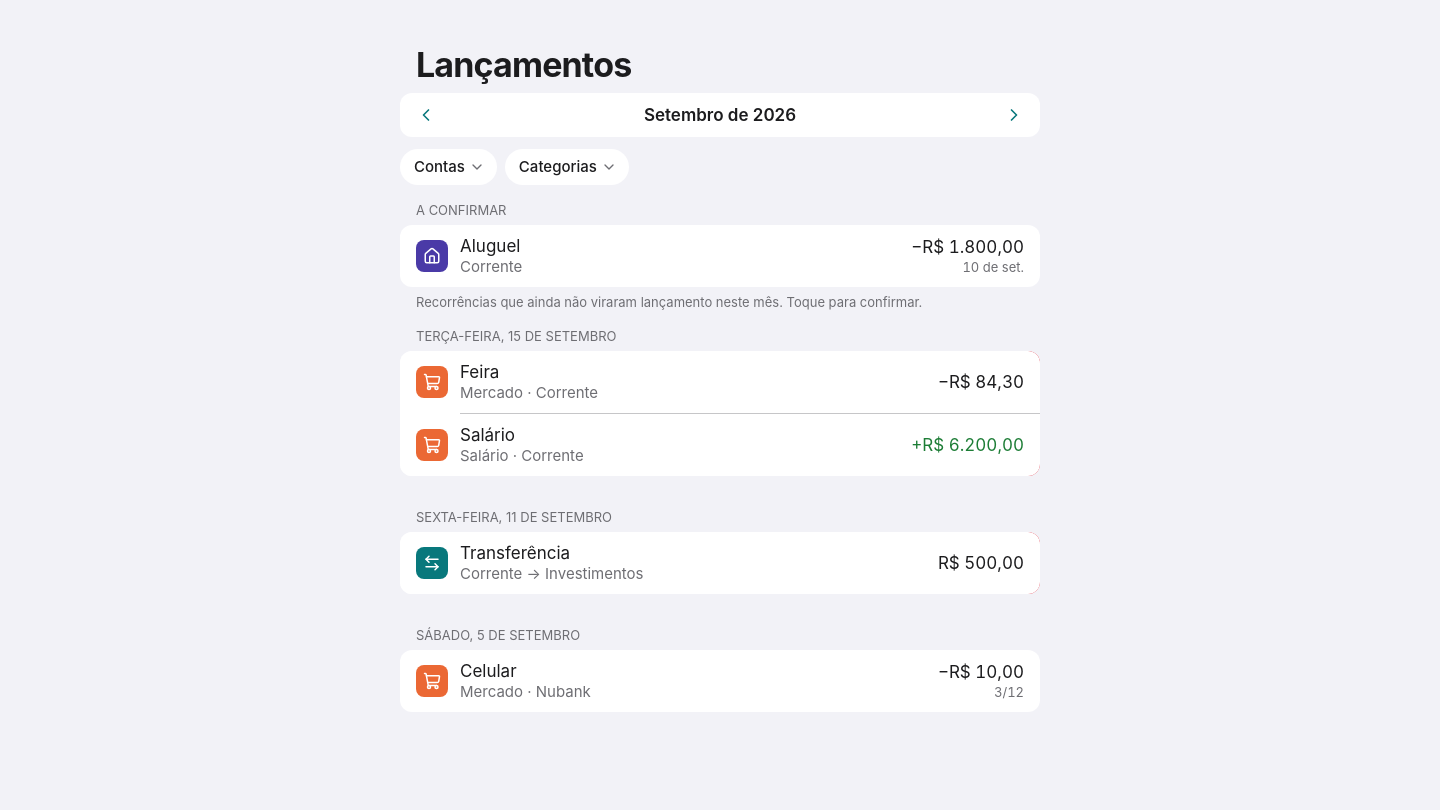
previstos do mês › já confirmada (409): a mensagem do backend aparece na folha
Click the button "Aluguel Corrente −R$ 1.800,00 10 de set." at [432, 256], box [400,225,1040,287]
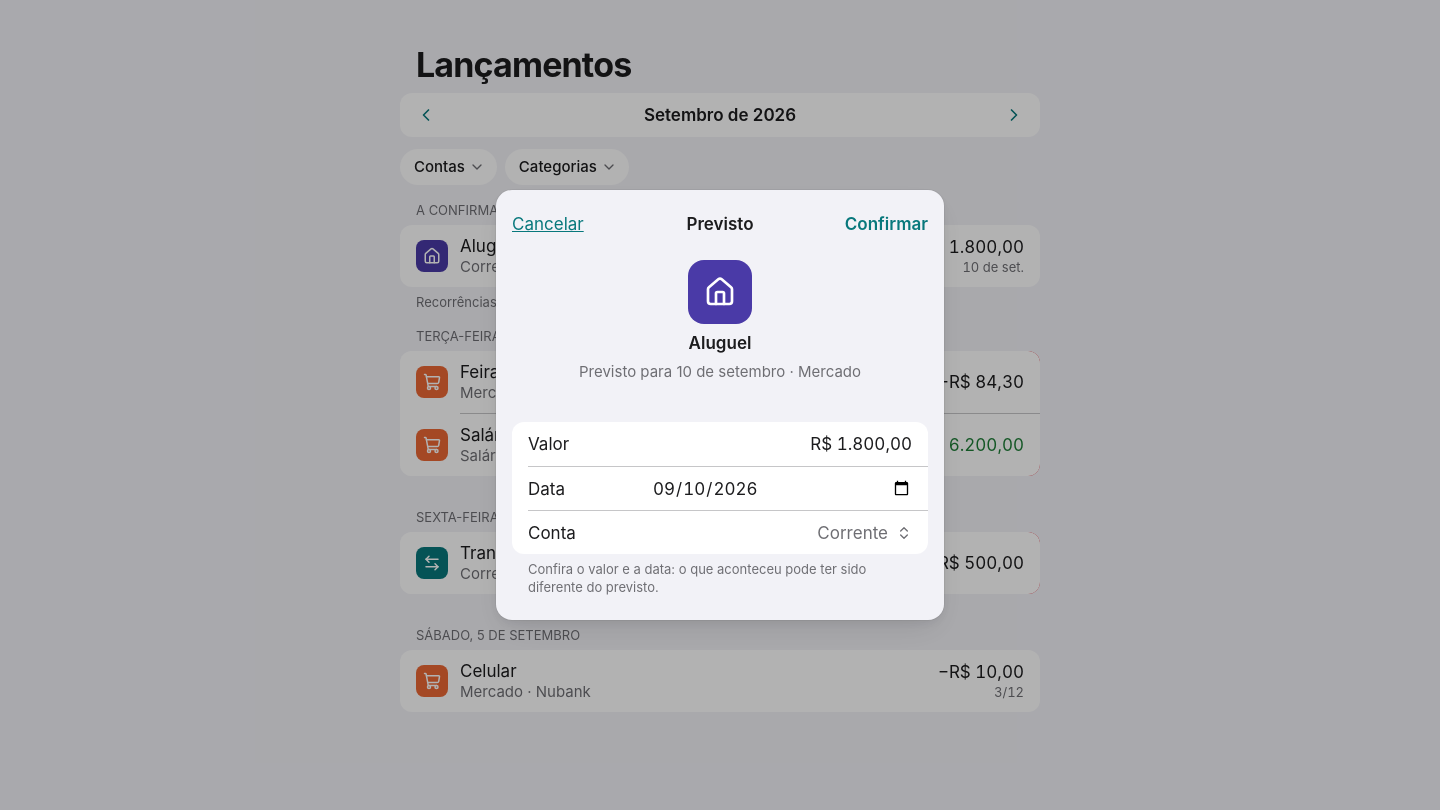
Click the button "Confirmar" at [886, 224], box [845,202,928,246]
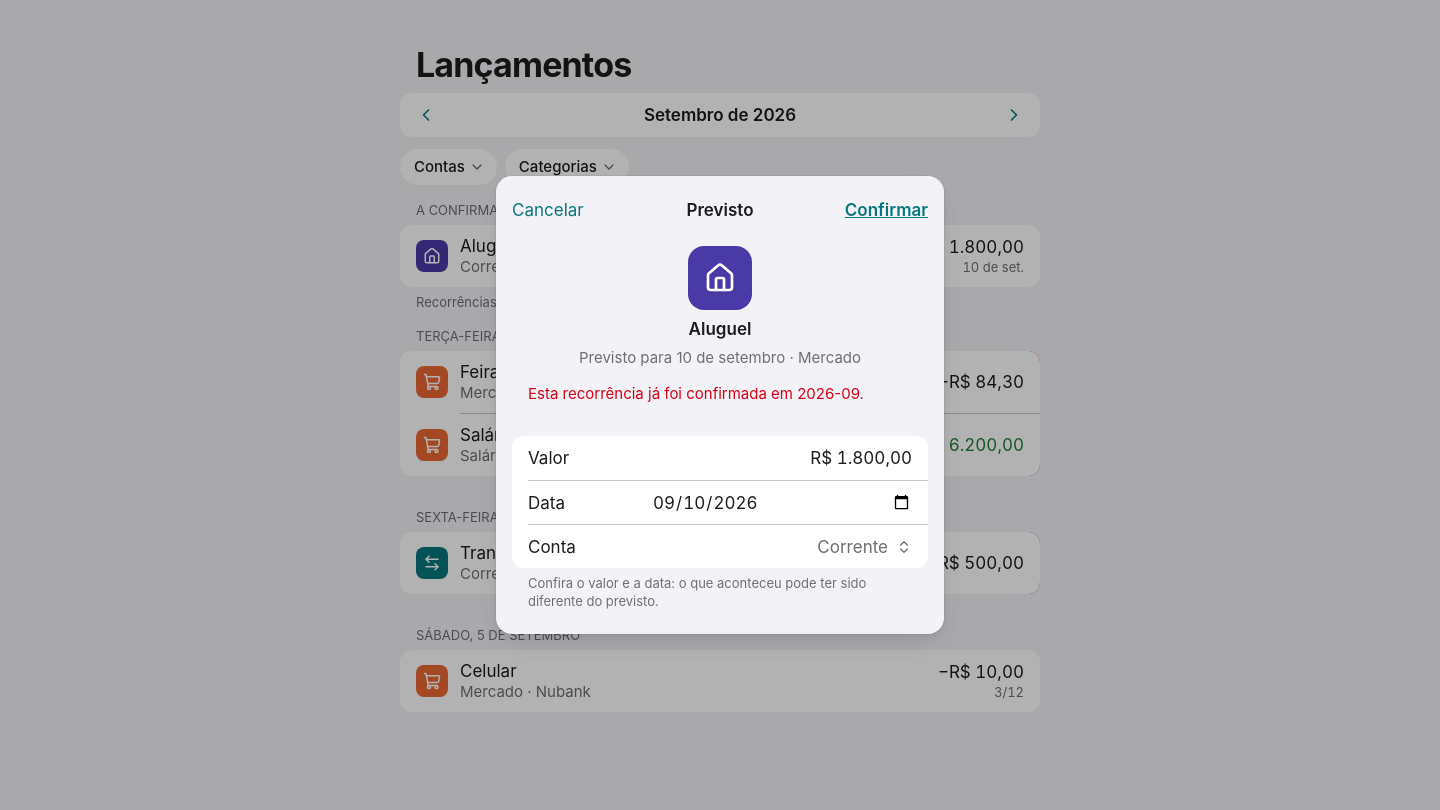
expect the message shows "já foi confirmada": met, box [528,384,864,403]
